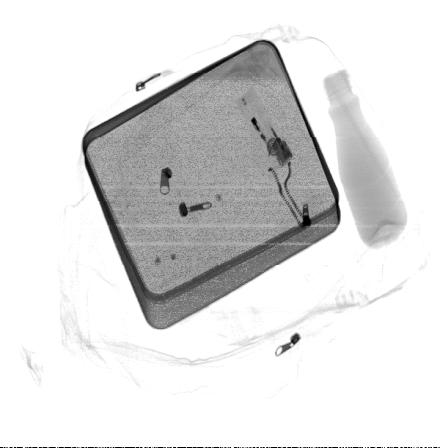Lighter: (236, 86, 293, 172)
